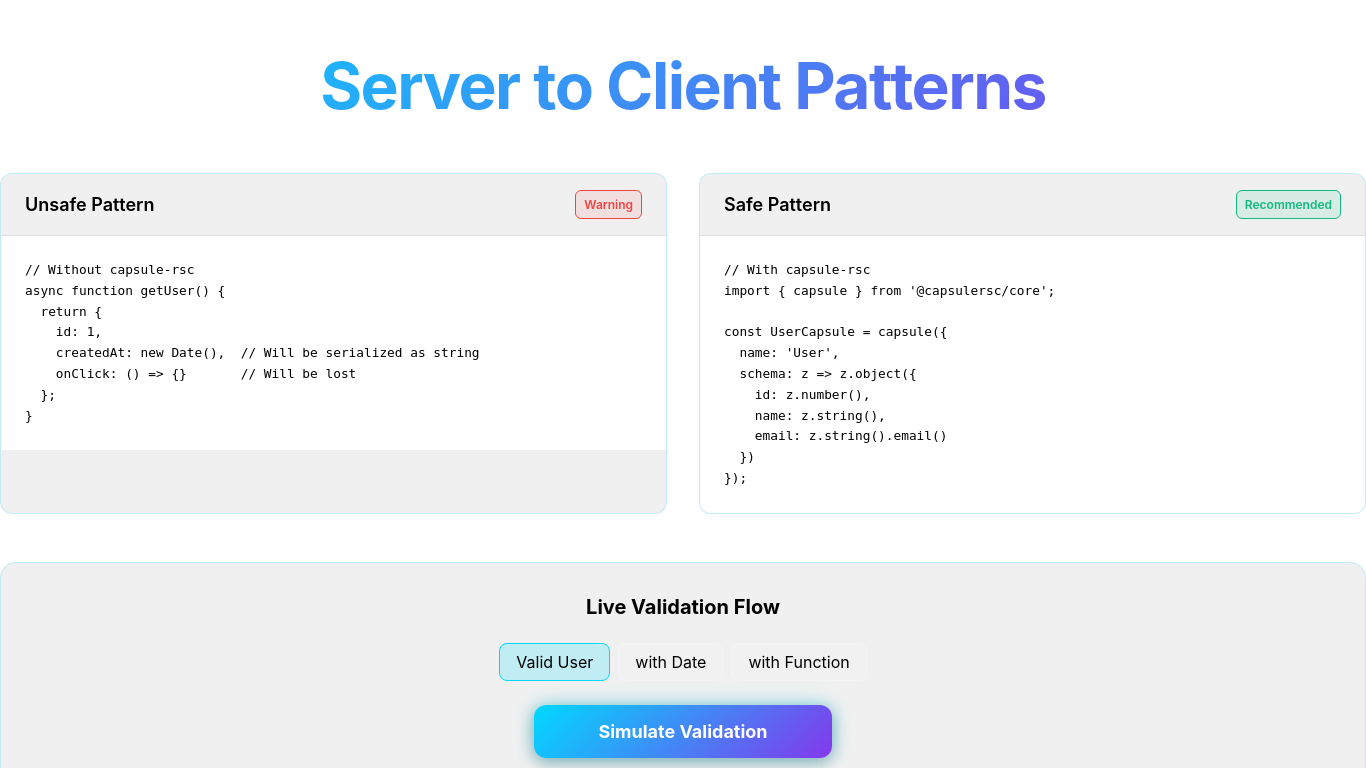
it: ServerClientDemo › interactive validation flow › should display validation result area after simulation completes
Step 1. Click the button "Simulate Validation" → [683, 731], box [534,705,832,758]
(page scrolled)
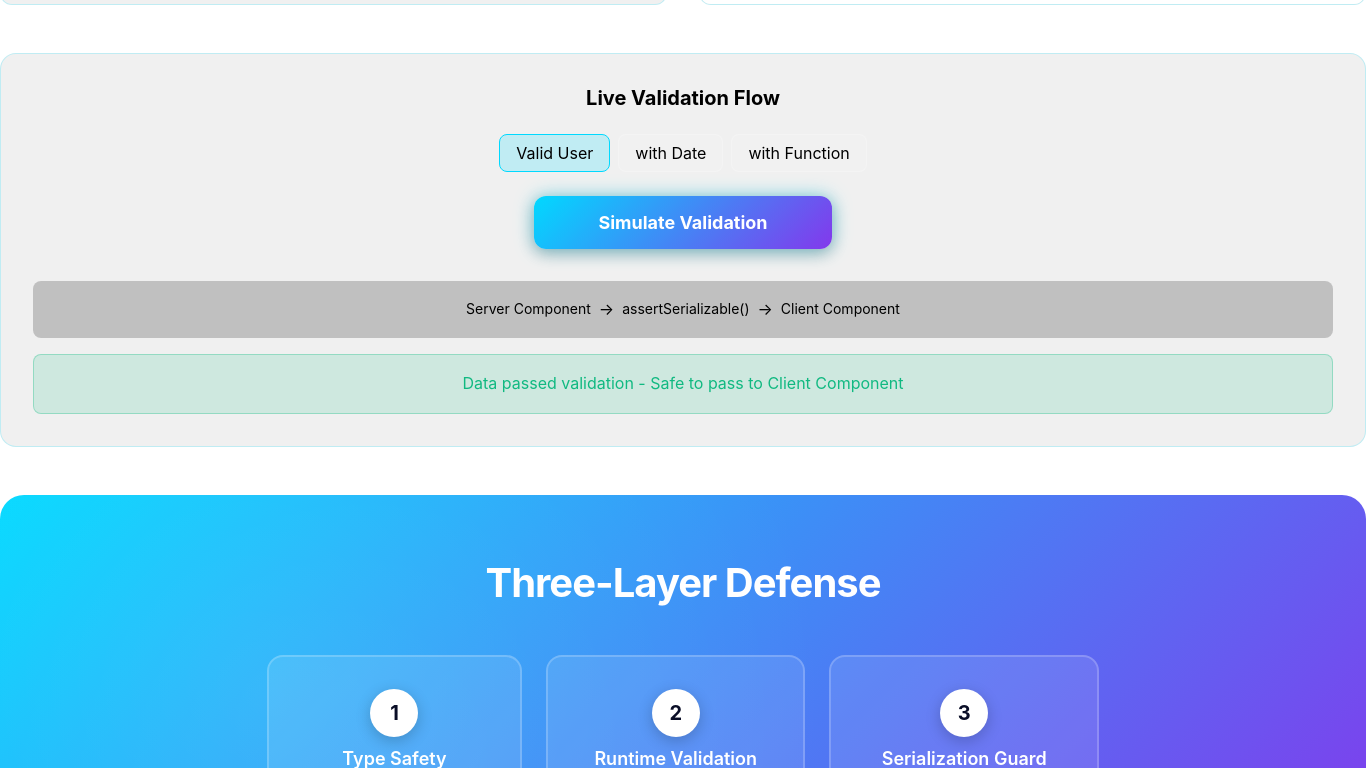
Expected: the element with test id "validation-result" is shown, [33,354,1333,414]
